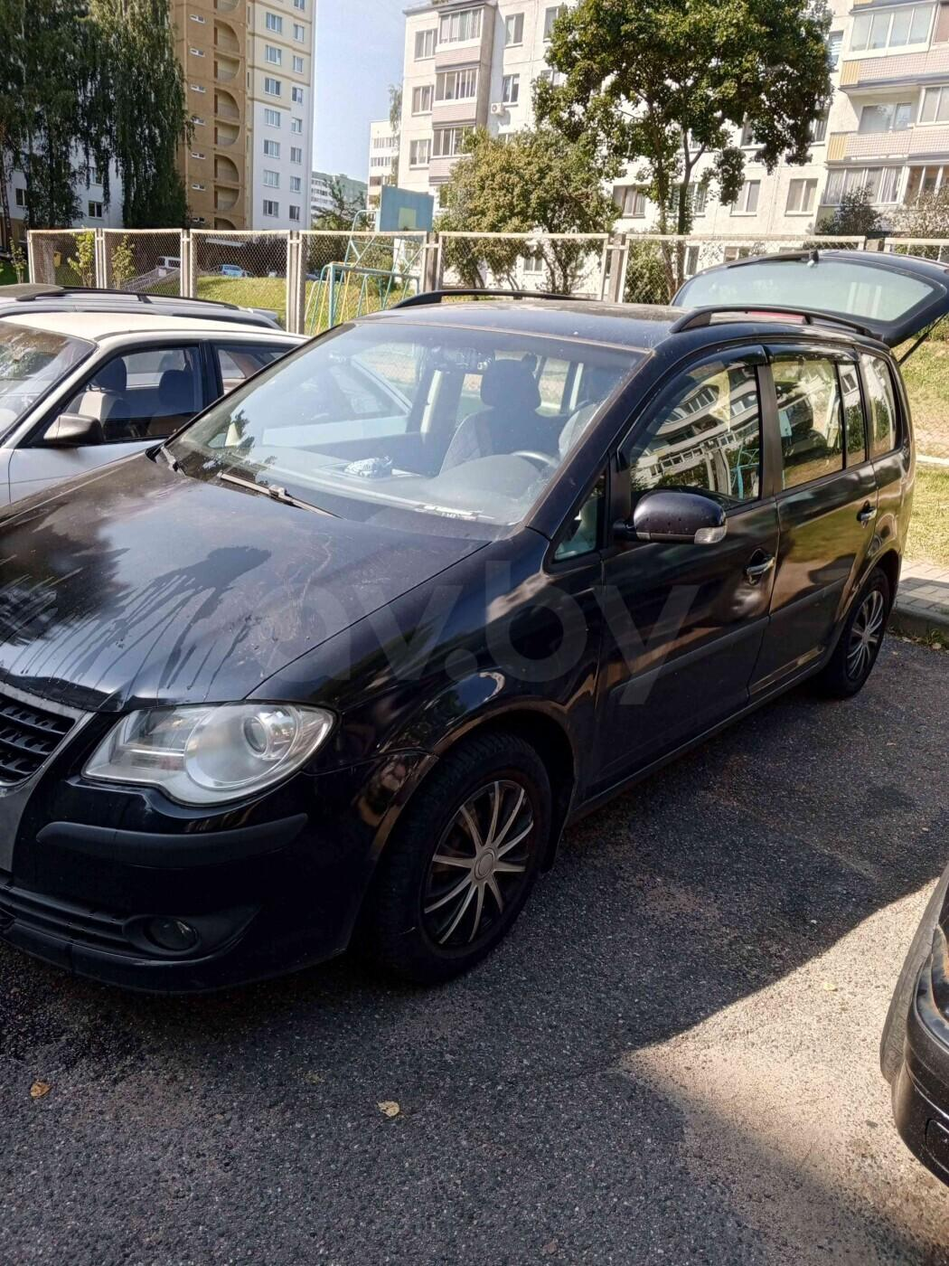Touran_2006-2010: (0, 288, 916, 997)
